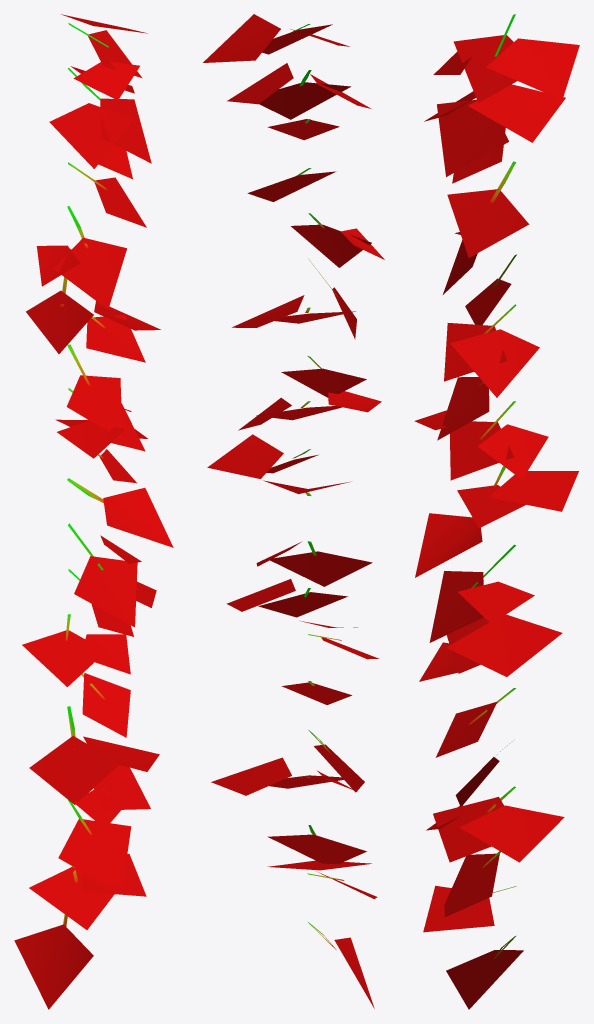
Rendered from Var13_LOD5.fbx.
The picture shows the model from 3 angles, left to right: view 1: azimuth 30°, elevation 25°; view 2: azimuth 150°, elevation 25°; view 3: azimuth 270°, elevation 25°; orthographic projection. The views are drawn at different scales.
Parts seen in each view (by area): view 1: _gpu3_Var13_LOD5; view 2: _gpu3_Var13_LOD5; view 3: _gpu3_Var13_LOD5.
Boxes of the visible parts, left/top/right/bottom form: _gpu3_Var13_LOD5: left=14, top=14, right=173, bottom=1009; _gpu3_Var13_LOD5: left=203, top=14, right=384, bottom=1008; _gpu3_Var13_LOD5: left=414, top=14, right=579, bottom=1009.
Bounding box in the file's own units: 11.87 × 74.4 × 10.99.
